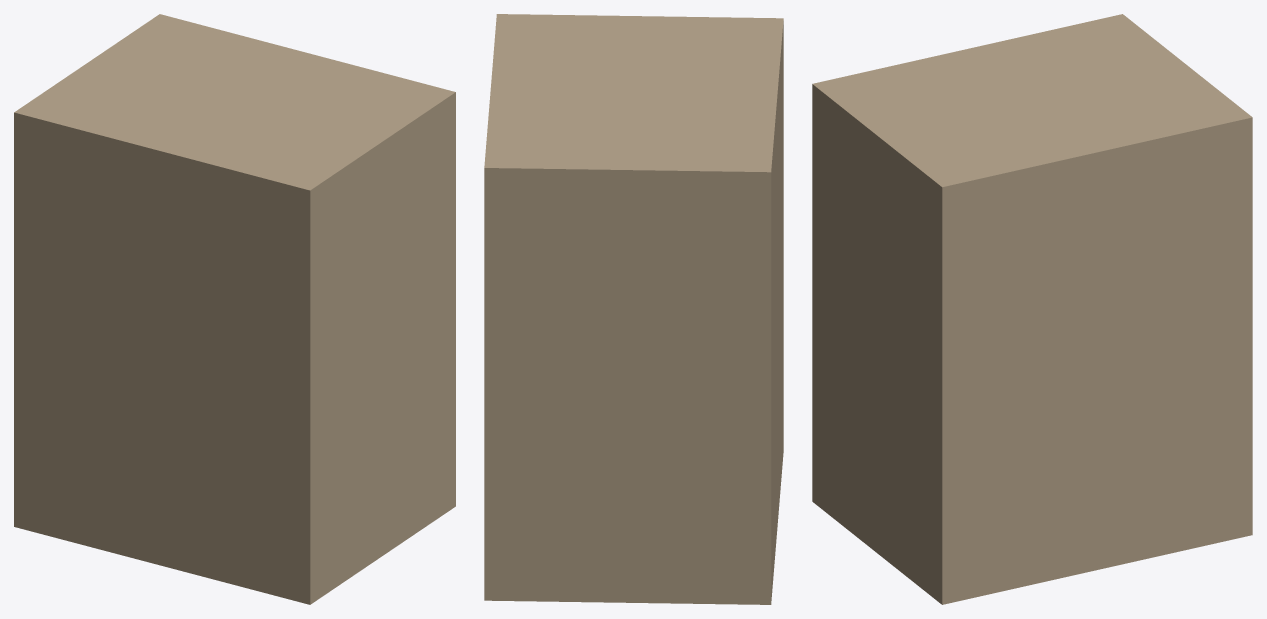
The model's file is bld_163484403.dae.
3 renders of one model, left to right at view 1: azimuth 30°, elevation 25°; view 2: azimuth 150°, elevation 25°; view 3: azimuth 270°, elevation 25°, orthographic. The views are drawn at different scales.
Visible parts, largest first — view 1: bld_163484403; view 2: bld_163484403; view 3: bld_163484403.
Part boxes in pixels (left/top/right/bottom): bld_163484403: left=14, top=14, right=455, bottom=604; bld_163484403: left=484, top=14, right=783, bottom=604; bld_163484403: left=812, top=14, right=1252, bottom=604.
Bounding box in the file's own units: 7.12 × 7.65 × 8.
